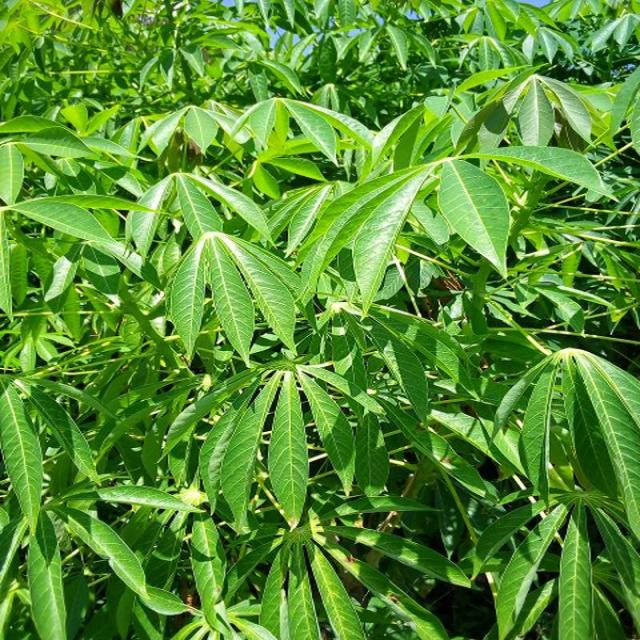cassava leaf: (1, 2, 638, 638), (168, 228, 298, 368), (438, 157, 510, 279)
